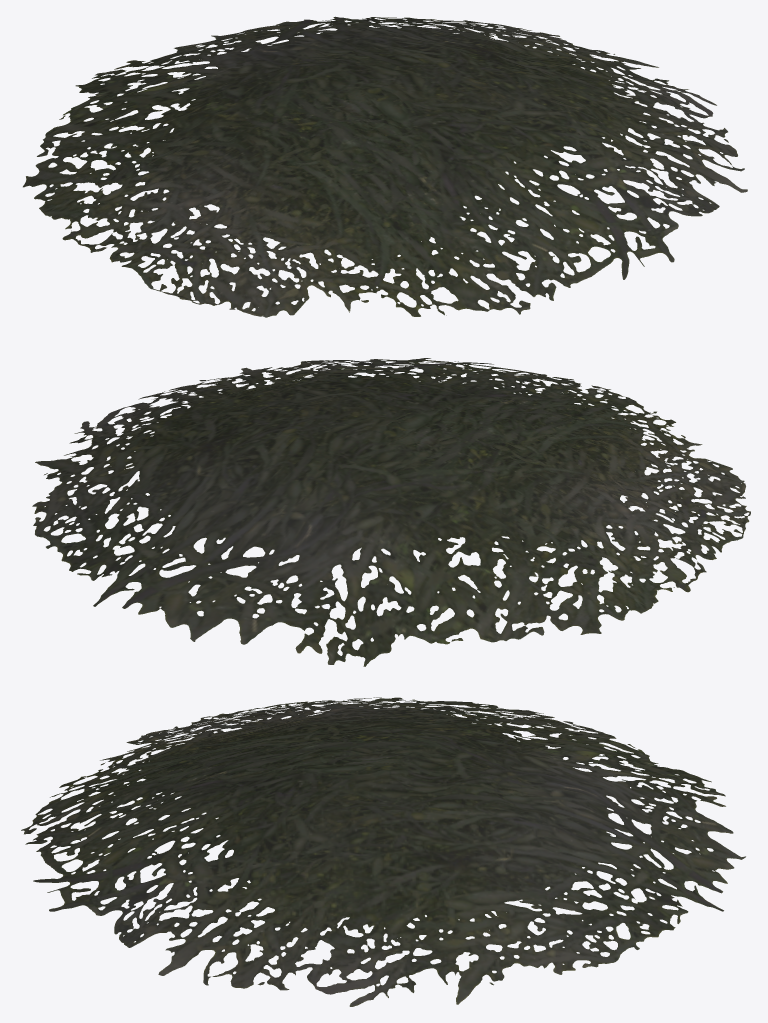
The model's file is Pile_Seaweed.fbx.
3 renders of one model, top to bottom at view 1: azimuth 30°, elevation 25°; view 2: azimuth 150°, elevation 25°; view 3: azimuth 270°, elevation 25°, orthographic.
Visible parts, largest first — view 1: Pile_Seaweed; view 2: Pile_Seaweed; view 3: Pile_Seaweed.
Boxes of the visible parts, <box> form: Pile_Seaweed: <box>23,16,747,317</box>; Pile_Seaweed: <box>32,358,750,666</box>; Pile_Seaweed: <box>21,697,745,1006</box>.
Bounding box in the file's own units: 290 × 35.42 × 290.
